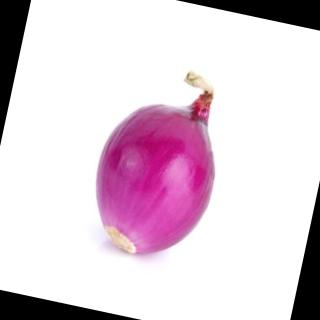Bawang Merah: (79, 55, 240, 271)
